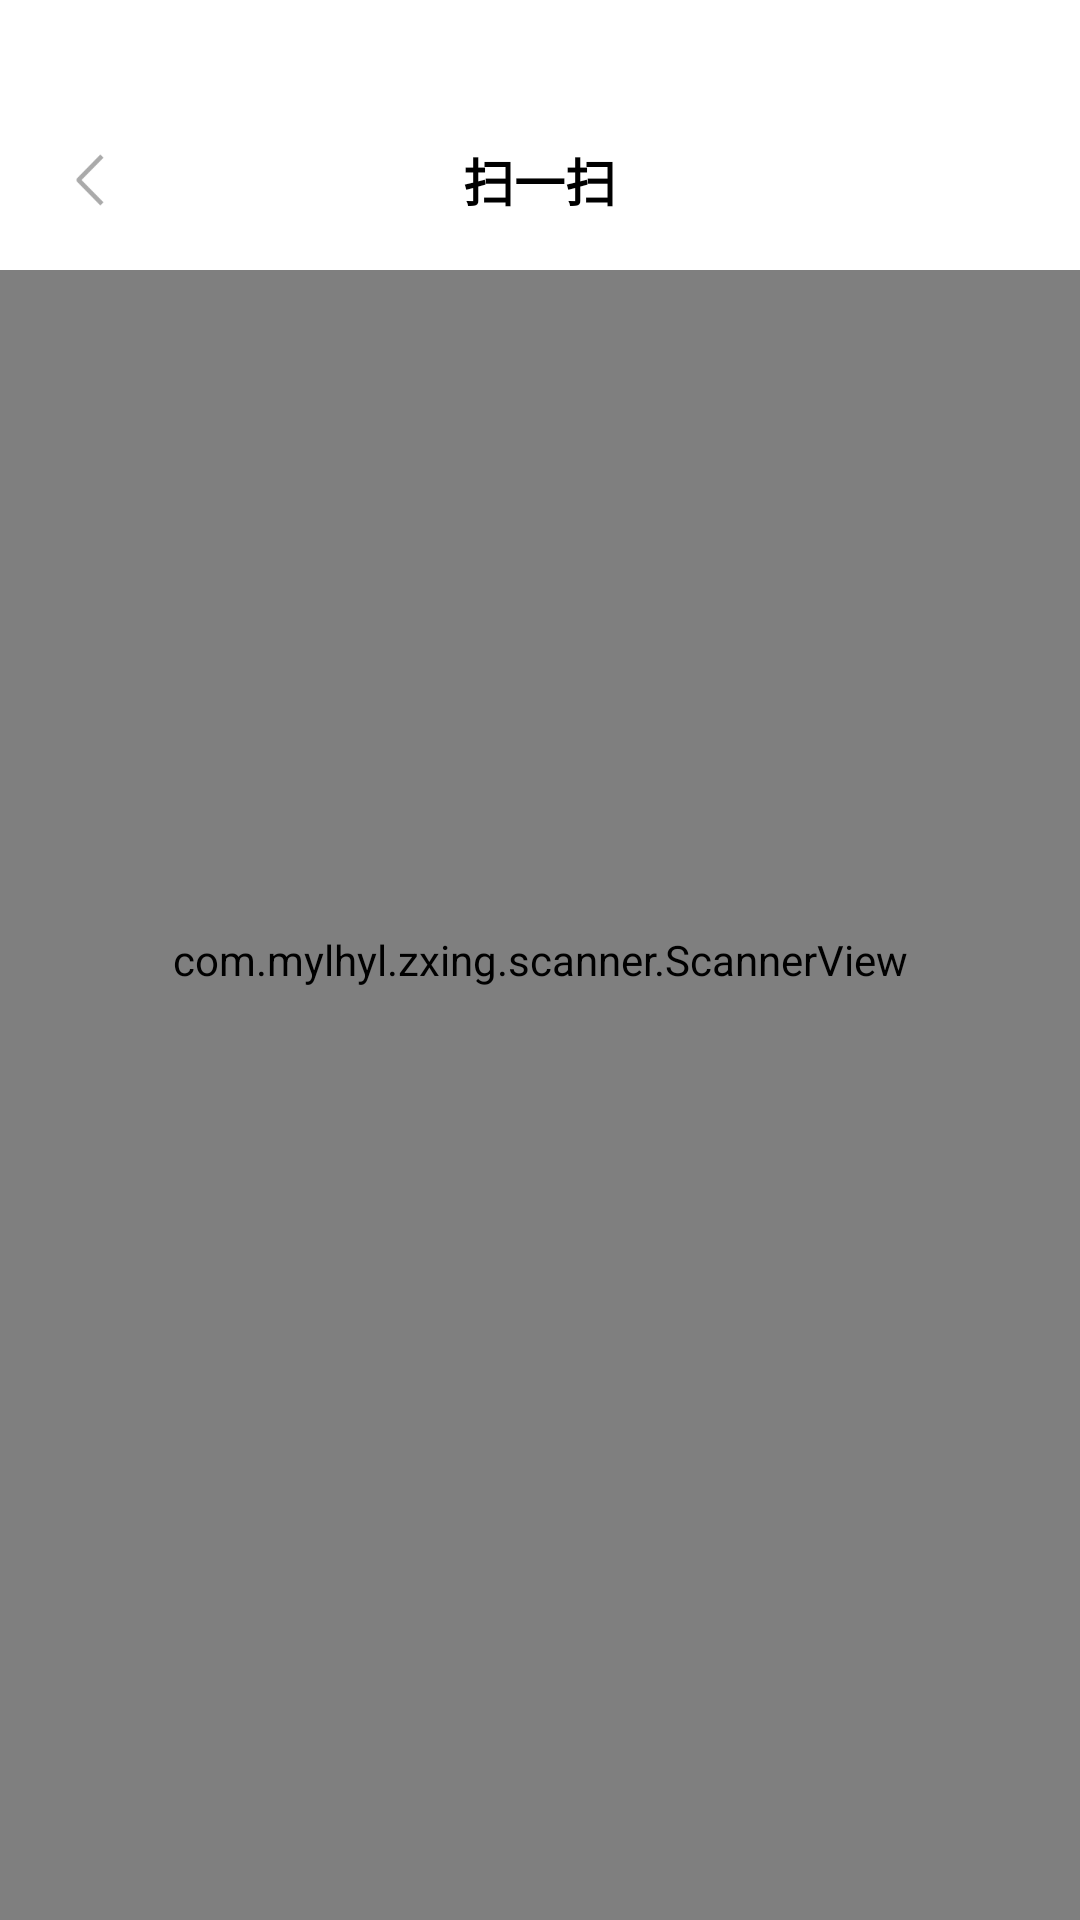

Screen size 1080px×1920px. Icon name, then its box in pixels as [x1, y1, x2, y2]:
back: [76, 155, 103, 205]
